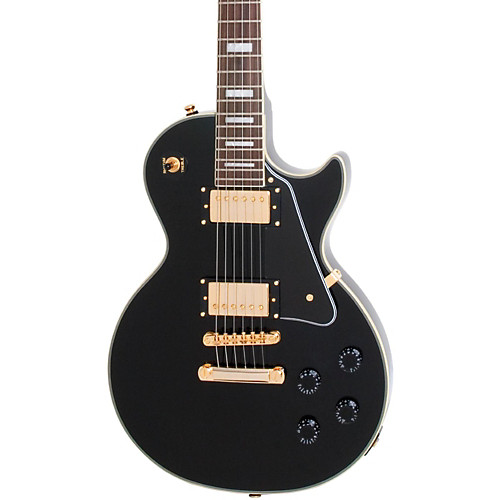ElectricGuitar: (108, 2, 394, 497)
